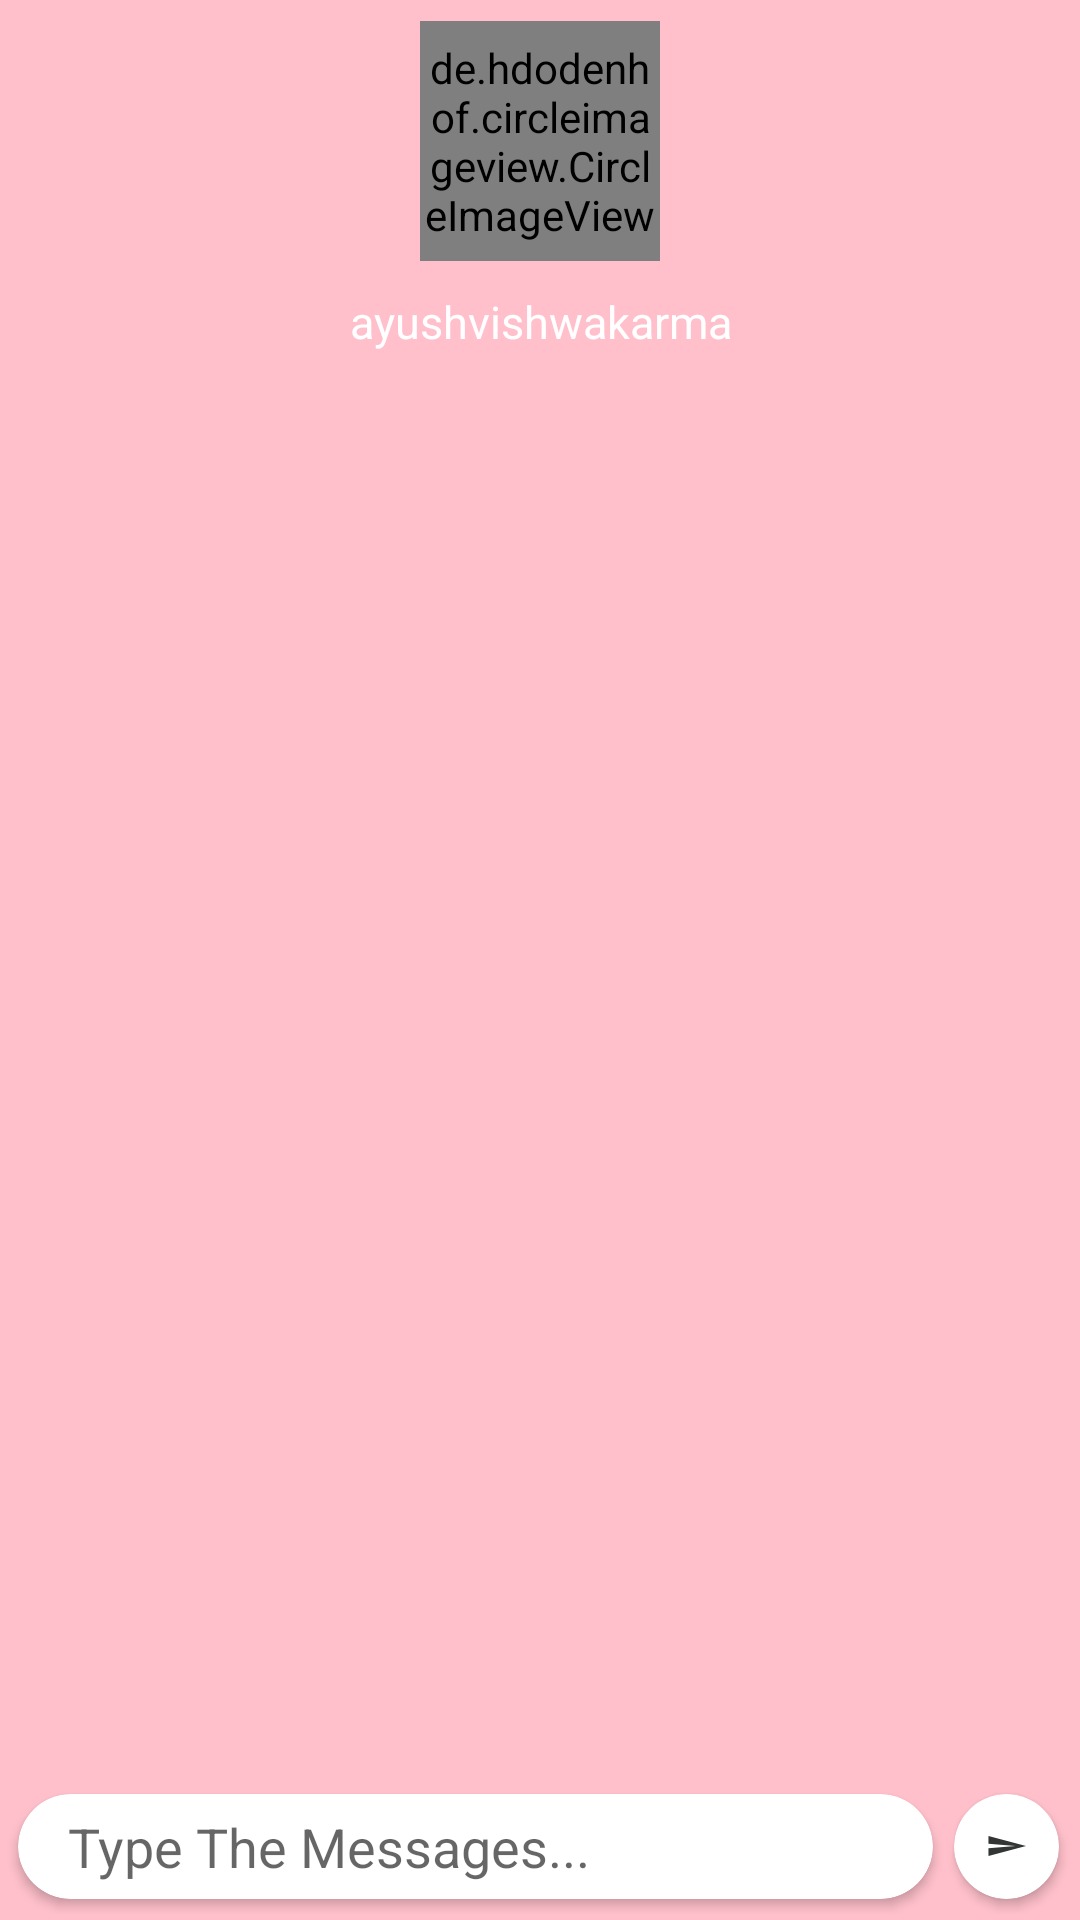

Screen size 1080x1920. Icon name, then its center in pixels as [x,y]:
sendbut: [1007,1846]
